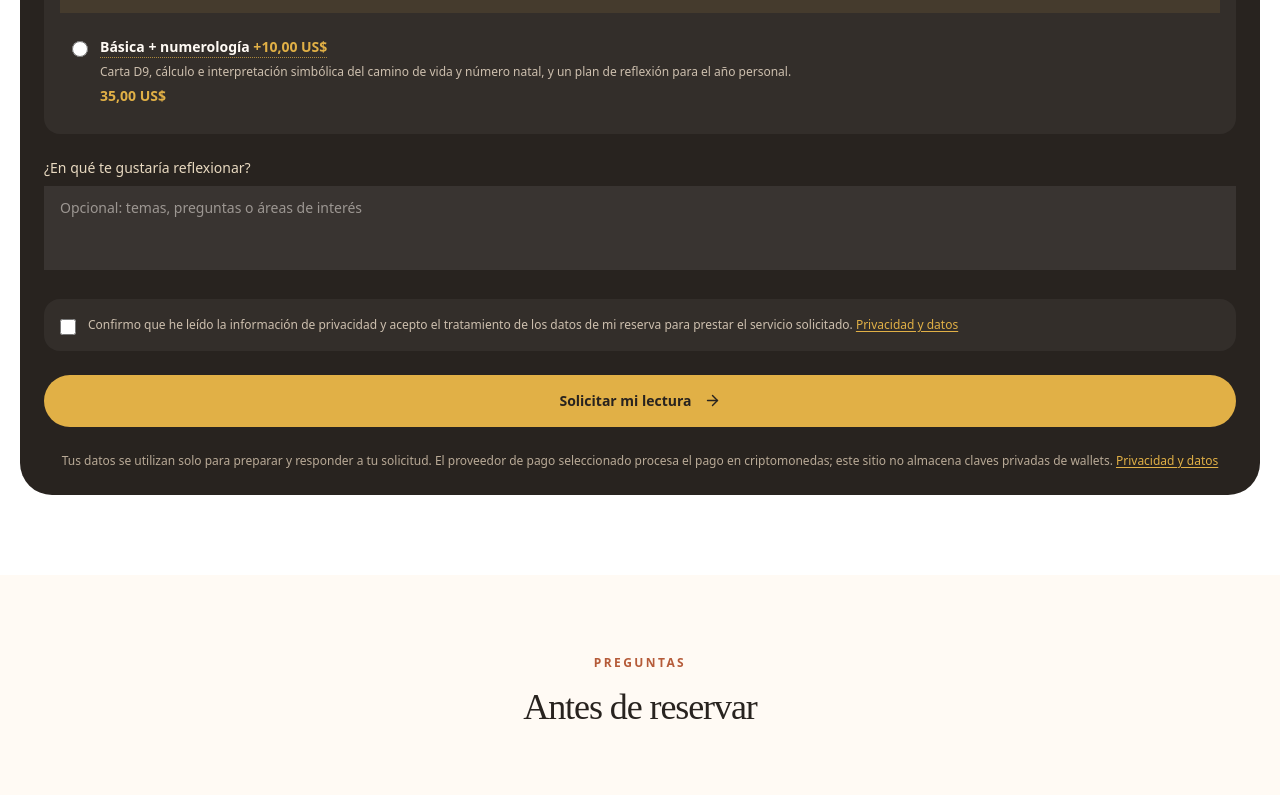
Home booking payment UX › shows application-controlled validation in es
The image size is (1280, 795).
(page scrolled)
Click the button "Solicitar mi lectura" at (640, 401), box [44,375,1236,427]
(page scrolled)
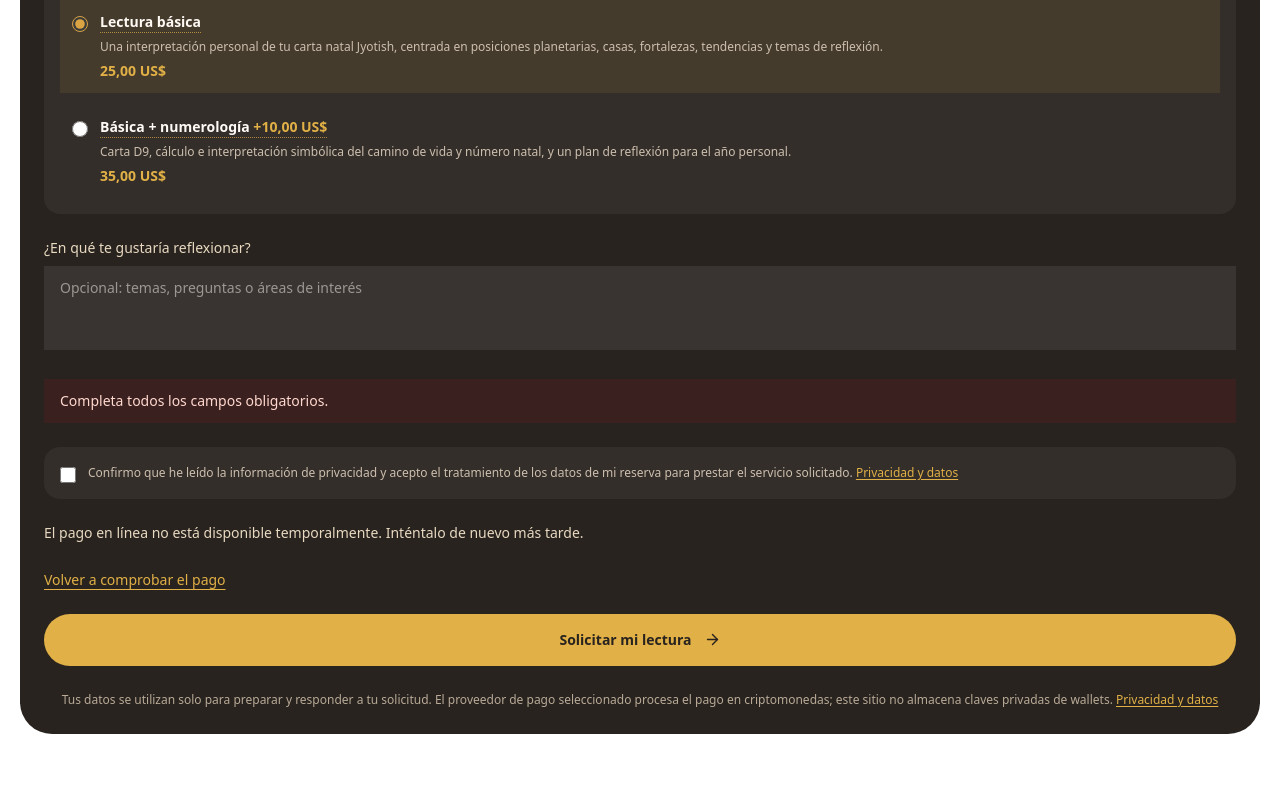
Check: the message "Completa todos los campos obligatorios." is shown, box [44,379,1236,423]
